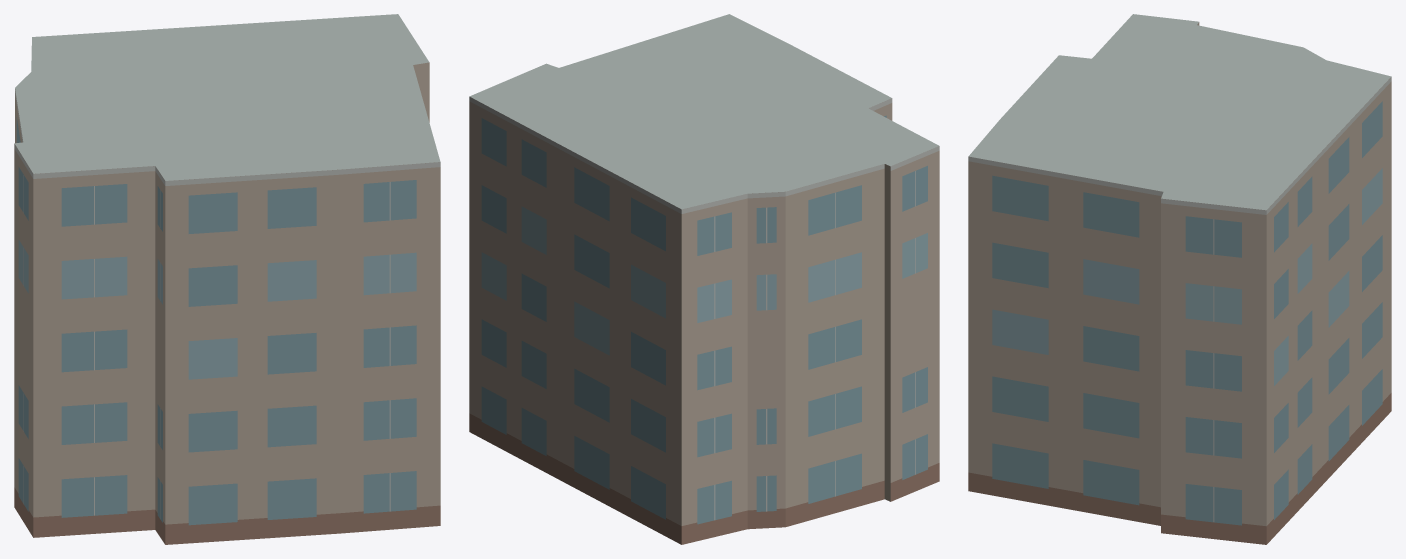
File: survey-upis-32519498.glb
3 views of the same model, side by side, from view 1: azimuth 30°, elevation 25°; view 2: azimuth 150°, elevation 25°; view 3: azimuth 270°, elevation 25° (orthographic). The views are drawn at different scales.
Parts seen in each view (by area): view 1: survey-upis-32519498.tmp; view 2: survey-upis-32519498.tmp; view 3: survey-upis-32519498.tmp.
Boxes of the visible parts, left/top/right/bottom form: survey-upis-32519498.tmp: left=14, top=14, right=440, bottom=544; survey-upis-32519498.tmp: left=469, top=14, right=939, bottom=544; survey-upis-32519498.tmp: left=968, top=14, right=1391, bottom=544.
Size of the model in its own units: 21.78 by 17.3 by 19.84.
